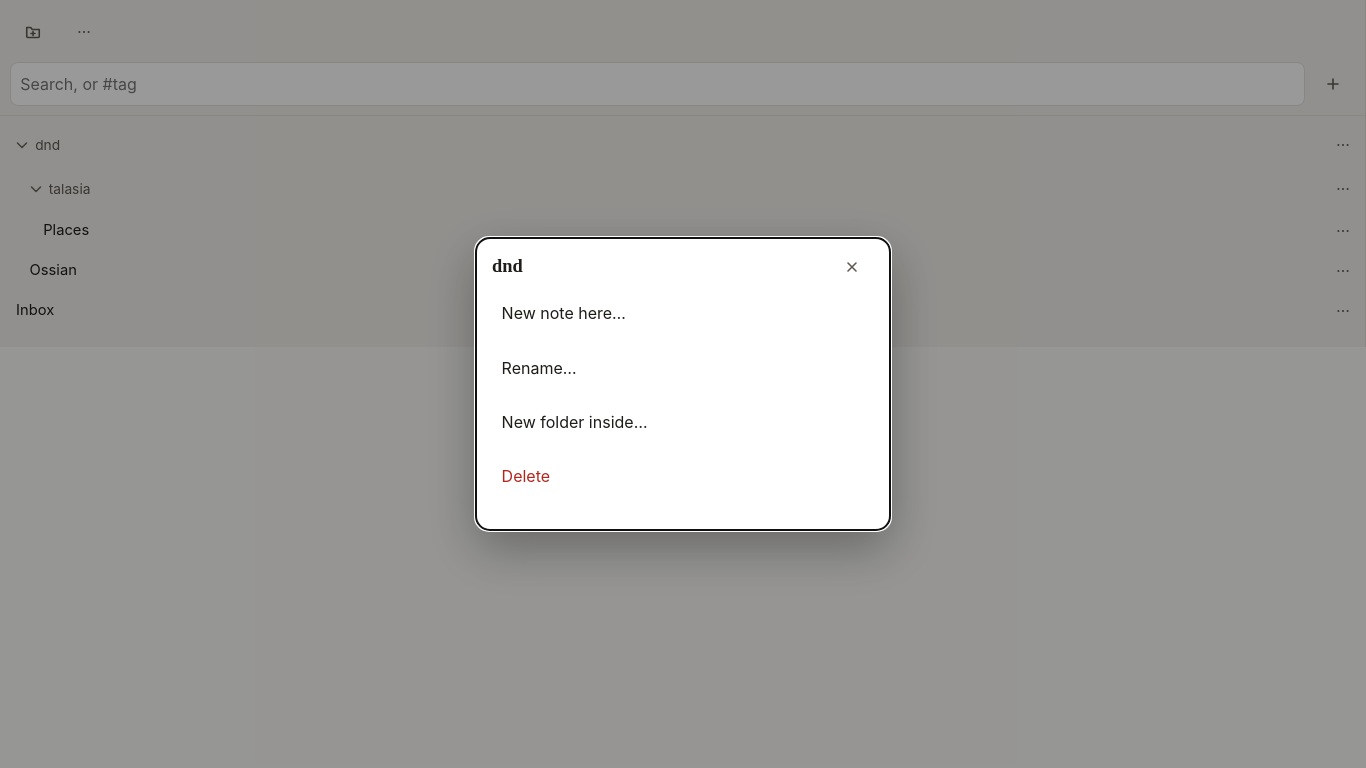
the folder menu › runs the rename it offers
Click the menu item with class "menu-item" showing "Rename…". click: (539, 368)
box: x1=492 y1=350 x2=874 y2=402
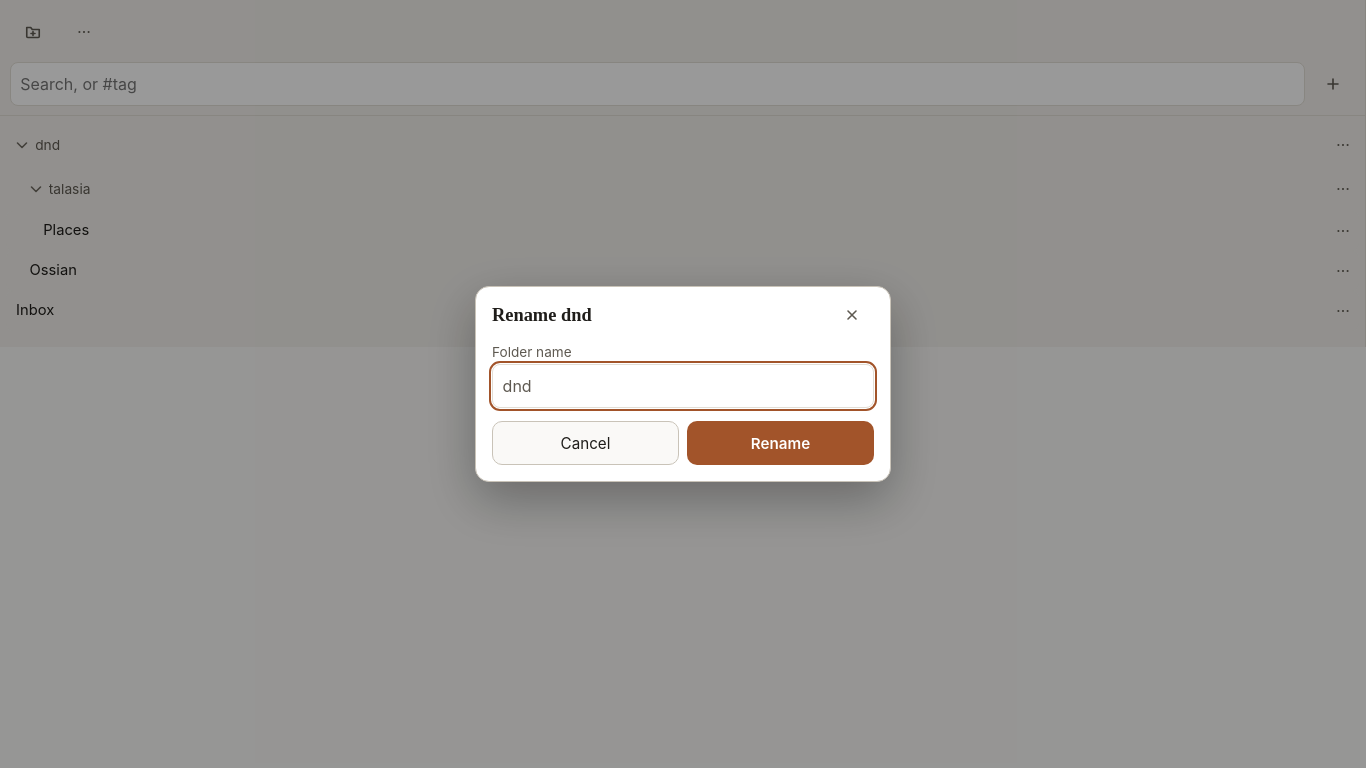
Expected: the heading "Rename dnd" is shown, x1=492 y1=305 x2=592 y2=325
